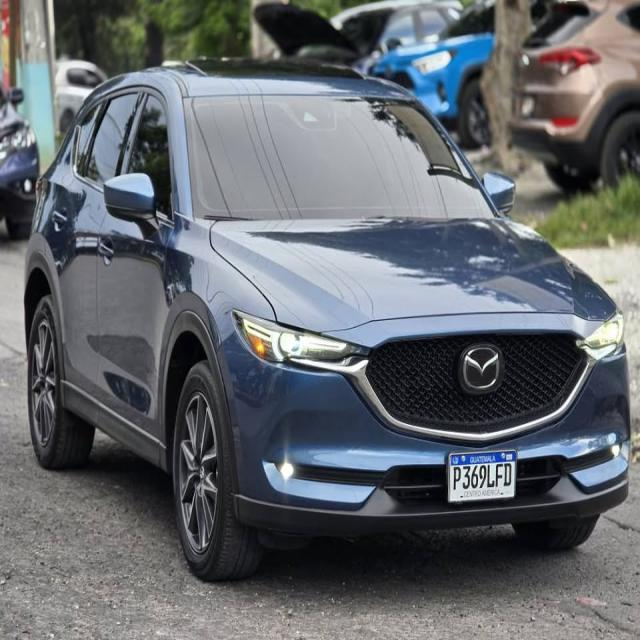Placas: (444, 444, 520, 506)
